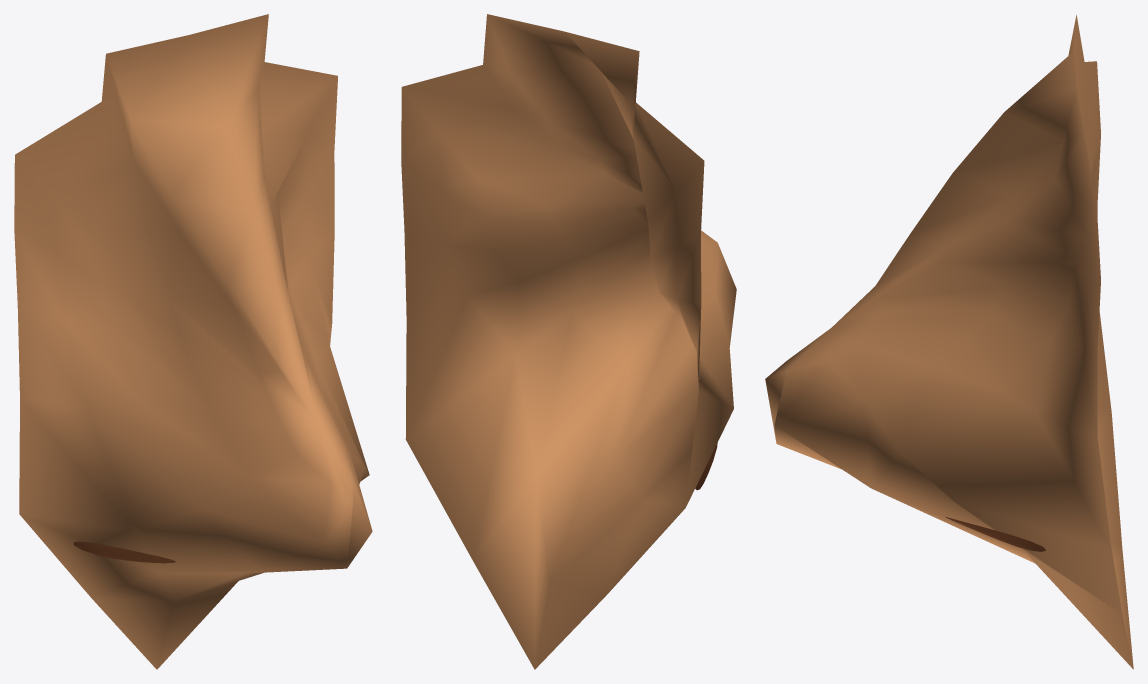
The model's file is nariz-01.glb.
3 renders of one model, left to right at view 1: azimuth 30°, elevation 25°; view 2: azimuth 150°, elevation 25°; view 3: azimuth 270°, elevation 25°, orthographic. The views are drawn at different scales.
Visible parts, largest first — view 1: RCL_nose_Pele, RCL_Narina_-1; view 2: RCL_nose_Pele; view 3: RCL_nose_Pele, RCL_Narina_1.
Part boxes in pixels (x1,y1,x2,y2): RCL_nose_Pele: (14,14,372,669); RCL_Narina_-1: (73,541,175,563); RCL_nose_Pele: (401,14,736,669); RCL_nose_Pele: (765,15,1133,669); RCL_Narina_1: (945,517,1045,551).
Bounding box in the file's own units: 0.0265 × 0.0515 × 0.0278.
